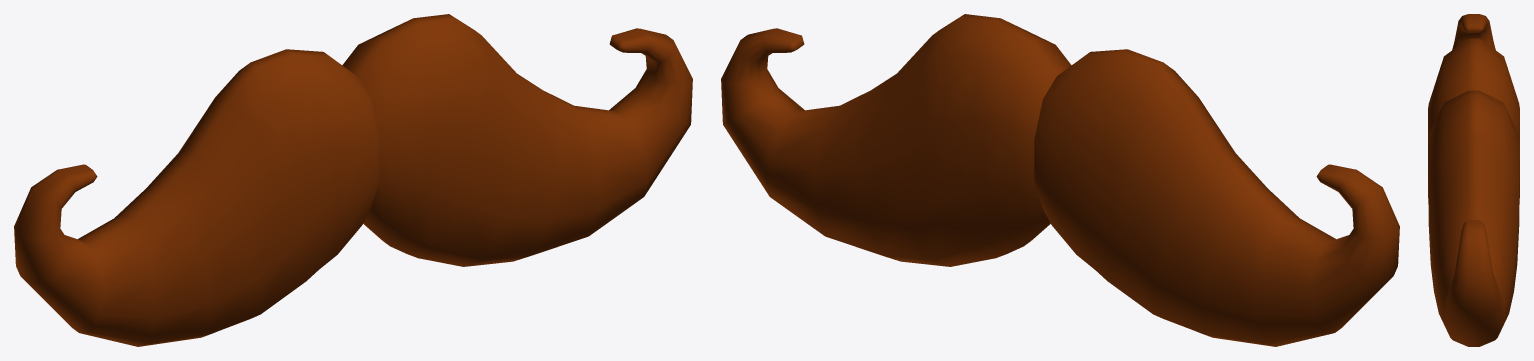
The model's file is Beard_10_02.fbx.
3 renders of one model, left to right at view 1: azimuth 30°, elevation 25°; view 2: azimuth 150°, elevation 25°; view 3: azimuth 270°, elevation 25°, orthographic. The views are drawn at different scales.
Parts seen in each view (by area): view 1: Beard_10_02; view 2: Beard_10_02; view 3: Beard_10_02.
Part boxes in pixels (x1,y1,x2,y2): Beard_10_02: (14,14,692,346); Beard_10_02: (721,14,1399,346); Beard_10_02: (1428,14,1519,346).
Bounding box in the file's own units: 18.39 × 6.86 × 2.89.
